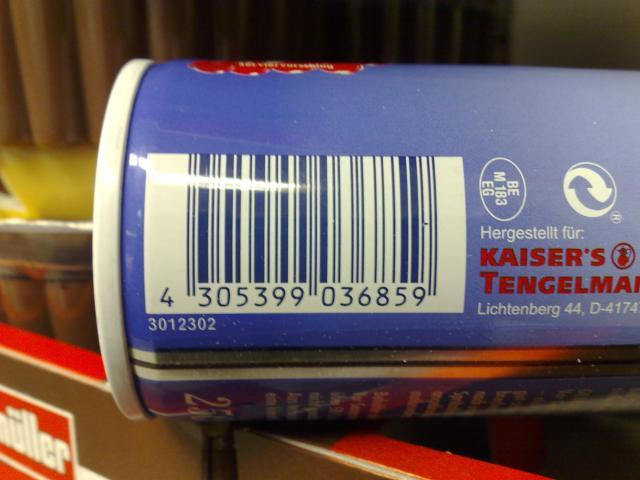Barcode: (137, 151, 465, 314)
